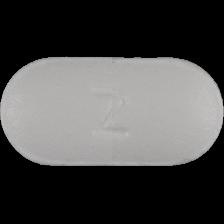68084-346: (0, 0, 224, 224)
